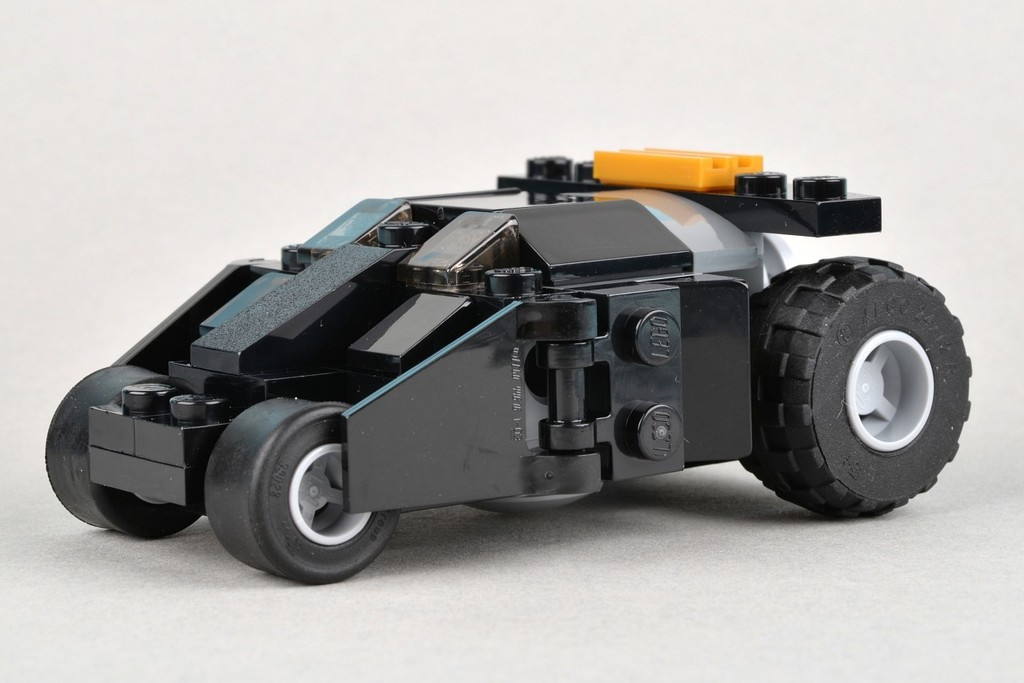Car: (62, 139, 952, 576)
